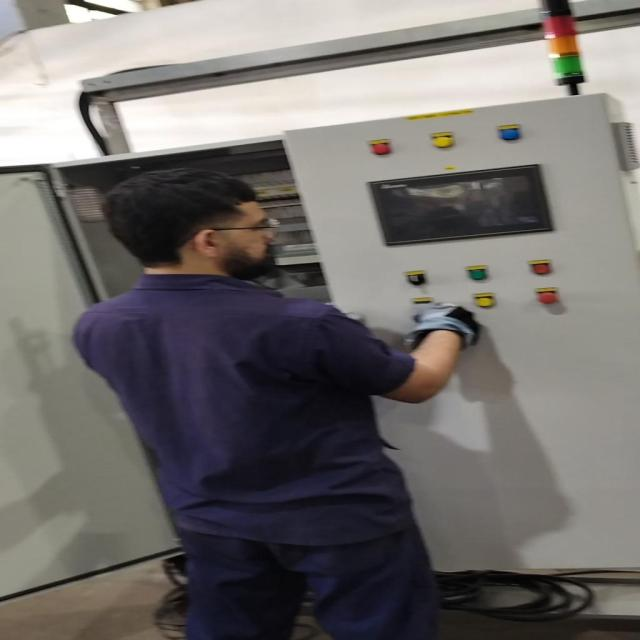Gloves-Detection: (398, 303, 476, 345)
